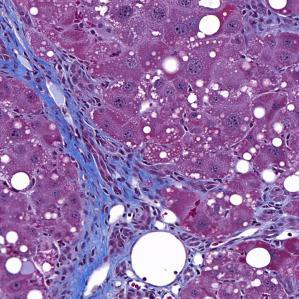fibrosis: (22, 28, 105, 148), (78, 160, 161, 237), (57, 248, 130, 295)
